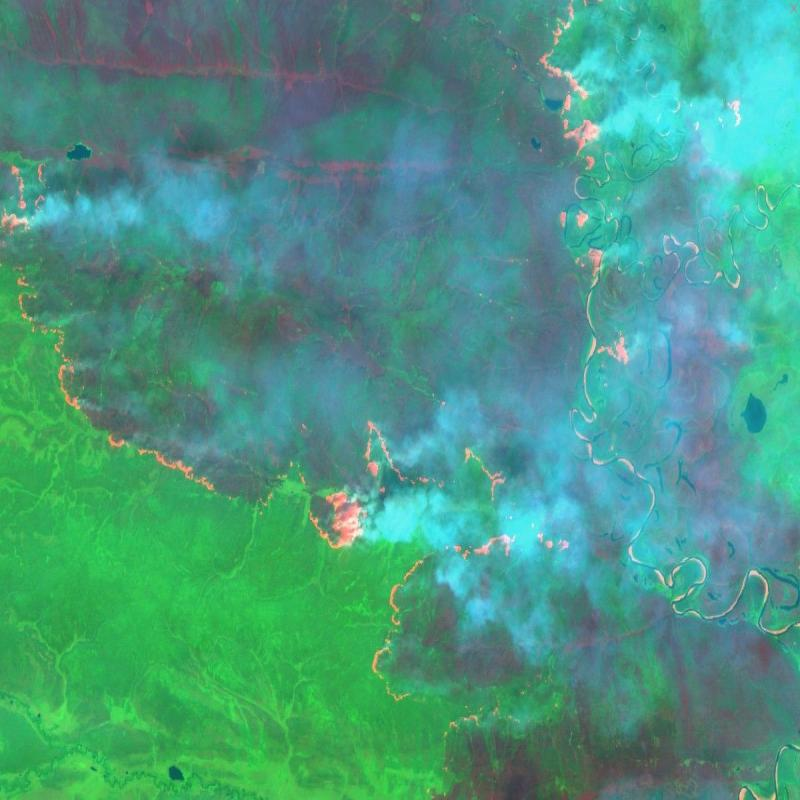fire: (301, 411, 575, 737), (0, 151, 224, 500), (534, 0, 639, 385), (708, 89, 747, 148)
